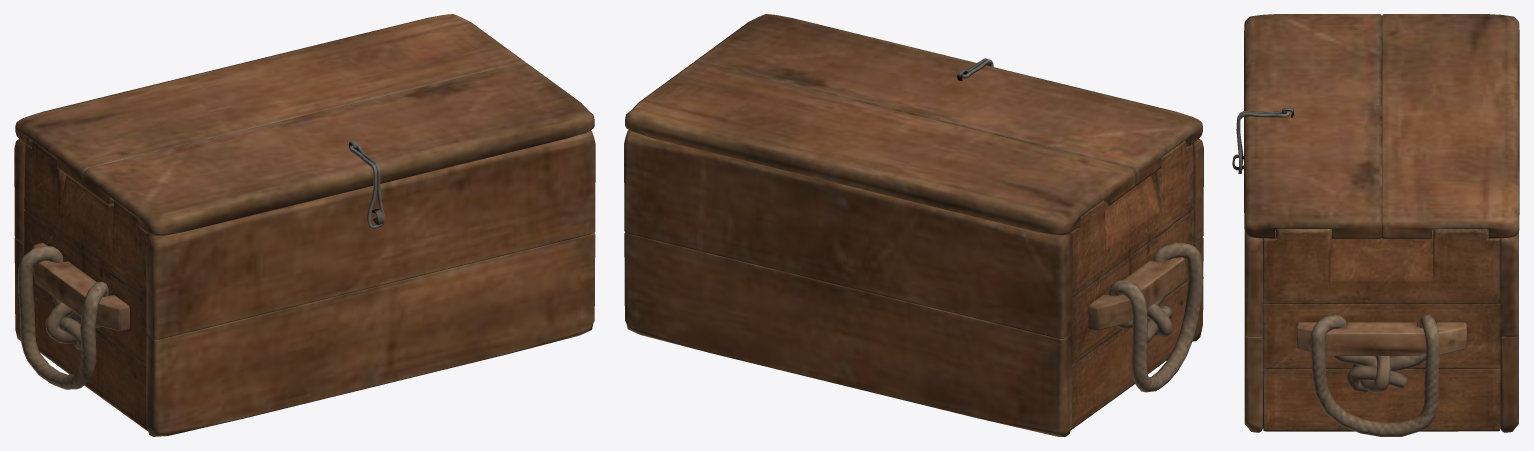
File: crate-wooden-01.2d8e06bf.glb
The picture shows the model from 3 angles, left to right: view 1: azimuth 30°, elevation 25°; view 2: azimuth 150°, elevation 25°; view 3: azimuth 270°, elevation 25°; orthographic projection. The views are drawn at different scales.
Parts seen in each view (by area): view 1: model; view 2: model; view 3: model.
Boxes of the visible parts, x1,y1,x2,y2 form: model: (14,14,595,436); model: (624,14,1203,436); model: (1232,14,1519,436).
Bounding box in the file's own units: 0.8253 × 0.3496 × 0.409.
1 material, 1 textured.
